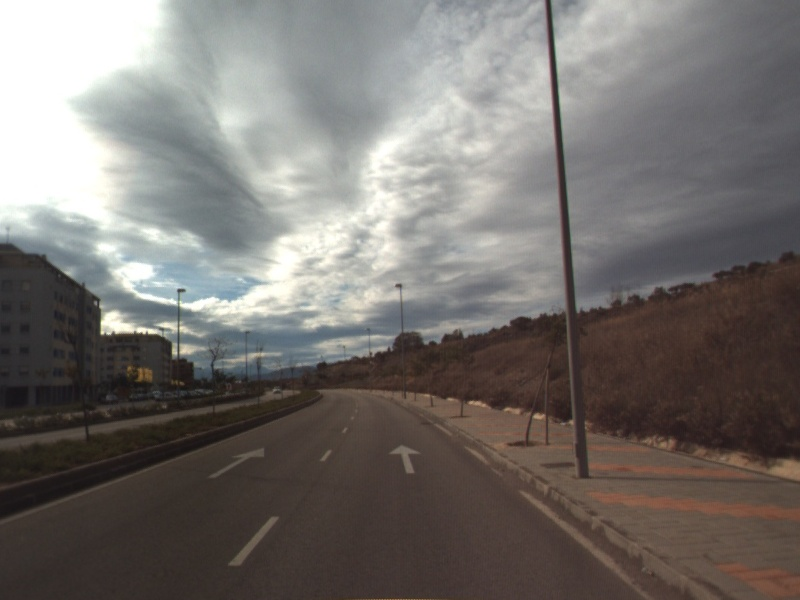STRAIGHT: (205, 446, 267, 480), (387, 442, 424, 475)
